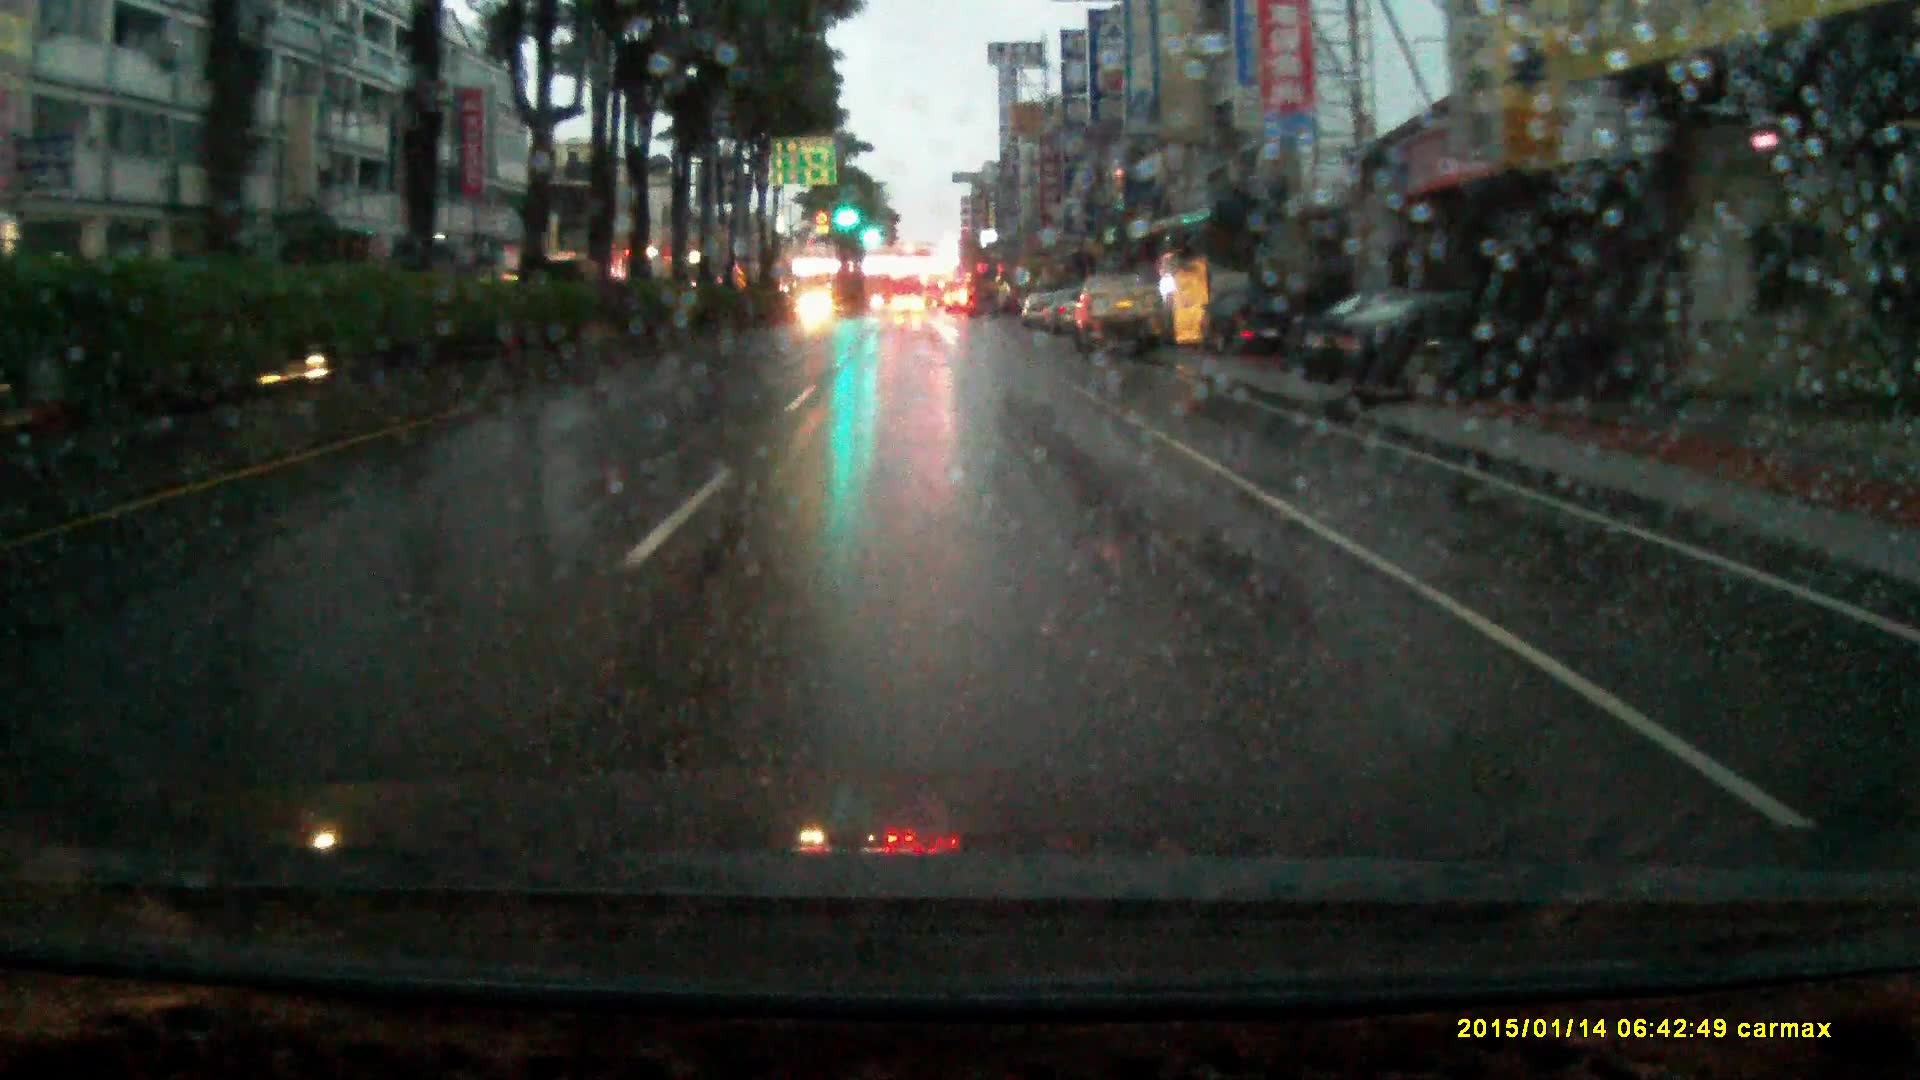vehicle: (1280, 298, 1655, 406), (1076, 277, 1164, 360), (1197, 294, 1298, 367), (796, 291, 837, 335), (891, 295, 927, 320), (924, 280, 947, 313)
